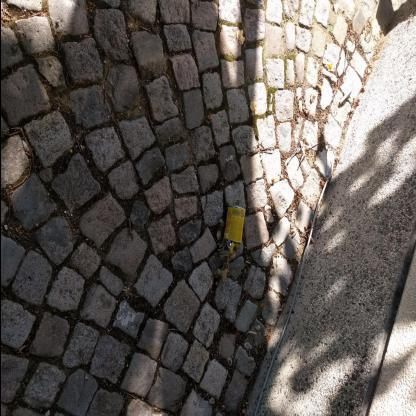metal: (223, 205, 245, 245)
